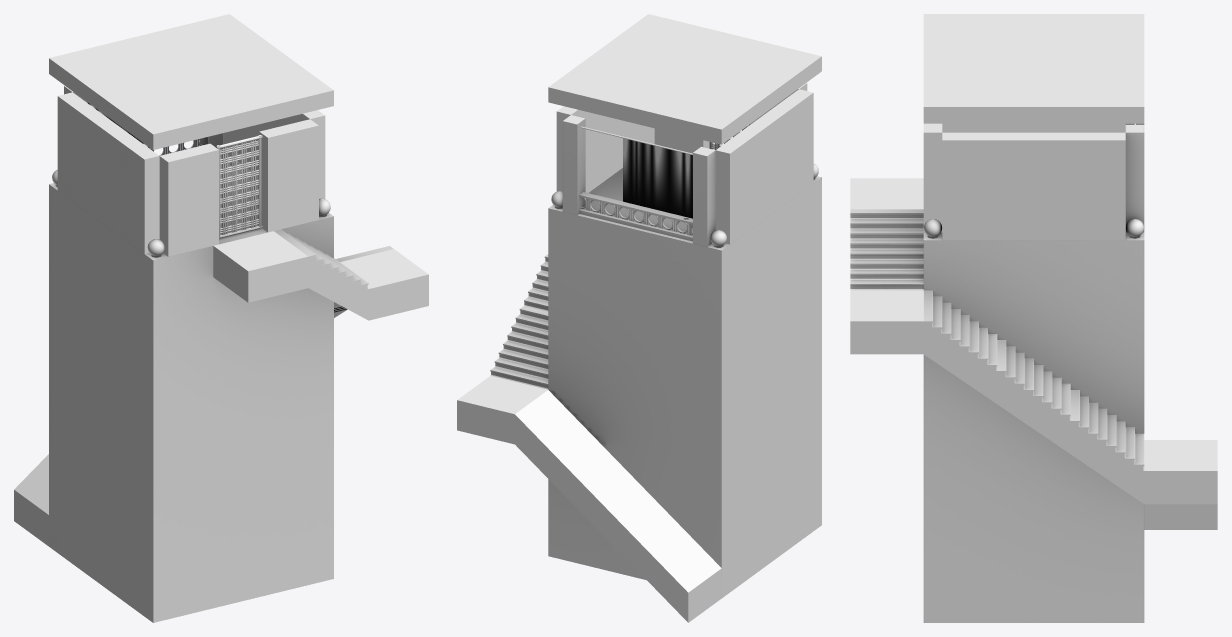
Rendered from turret.fbx.
3 renders of one model, left to right at view 1: azimuth 30°, elevation 25°; view 2: azimuth 150°, elevation 25°; view 3: azimuth 270°, elevation 25°, orthographic. The views are drawn at different scales.
Parts seen in each view (by area): view 1: polySurface104, pCube139, polySurface132, polySurface133, polySurface134, polySurface105, polySurface97, door, stairs4, polySurface98, polySurface130; view 2: polySurface104, pCube139, polySurface98, polySurface132, fabric_1, polySurface136, polySurface130, polySurface96, stairs6, pTorus54, stairs7, polySurface134; view 3: polySurface104, pCube139, polySurface130, stairs4, stairs6, stairs5, stairs7, polySurface96, polySurface97, polySurface105, polySurface134, polySurface136 (+2 smaller).
Boxes of the visible parts, left/top/right/bottom form: polySurface104: left=49, top=151, right=333, bottom=622; pCube139: left=49, top=14, right=333, bottom=149; polySurface132: left=57, top=92, right=159, bottom=253; polySurface133: left=159, top=143, right=218, bottom=256; polySurface134: left=259, top=119, right=318, bottom=232; polySurface105: left=213, top=231, right=308, bottom=302; polySurface97: left=340, top=249, right=428, bottom=320; door: left=215, top=135, right=262, bottom=238; stairs4: left=274, top=229, right=368, bottom=320; polySurface98: left=14, top=454, right=48, bottom=546; polySurface130: left=223, top=110, right=325, bottom=198; polySurface104: left=548, top=168, right=821, bottom=598; pCube139: left=548, top=14, right=821, bottom=144; polySurface98: left=515, top=390, right=721, bottom=622; polySurface132: left=715, top=89, right=813, bottom=244; fabric_1: left=623, top=138, right=692, bottom=218; polySurface136: left=562, top=115, right=715, bottom=246; polySurface130: left=556, top=106, right=654, bottom=192; polySurface96: left=457, top=375, right=547, bottom=444; stairs6: left=490, top=306, right=548, bottom=389; pTorus54: left=579, top=192, right=692, bottom=241; stairs7: left=524, top=254, right=548, bottom=311; polySurface134: left=654, top=128, right=709, bottom=153; polySurface104: left=923, top=232, right=1144, bottom=622; pCube139: left=923, top=14, right=1144, bottom=123; polySurface130: left=942, top=132, right=1125, bottom=240; stairs4: left=850, top=209, right=923, bottom=290; stairs6: left=1070, top=390, right=1144, bottom=503; stairs5: left=923, top=290, right=997, bottom=403; stairs7: left=997, top=340, right=1070, bottom=453; polySurface96: left=1144, top=440, right=1217, bottom=504; polySurface97: left=850, top=290, right=923, bottom=354; polySurface105: left=850, top=178, right=923, bottom=209; polySurface134: left=923, top=123, right=942, bottom=232; polySurface136: left=1125, top=123, right=1144, bottom=232.
Bounding box in the file's own units: 16 × 31 × 20.
Materials: 8 (7 with a texture image).
